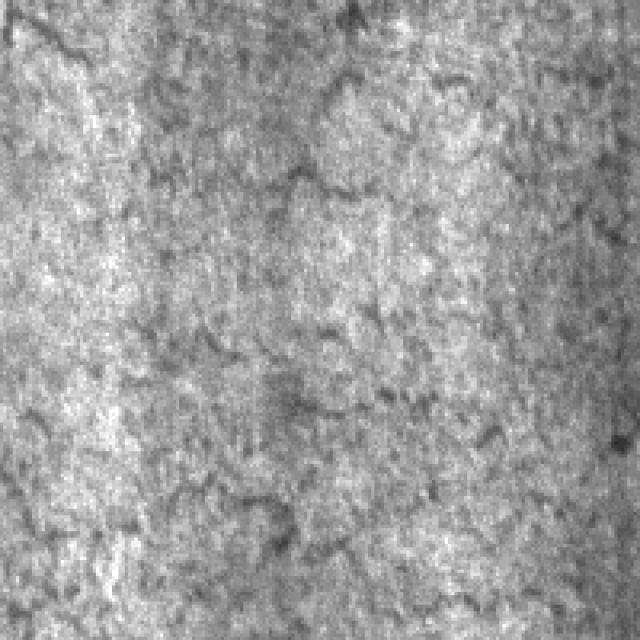crazing: (10, 332, 640, 617), (157, 61, 640, 240)
